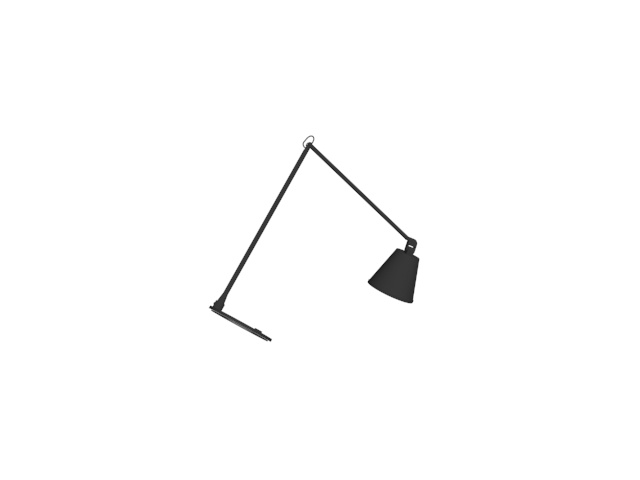desk_lamp: (209, 129, 424, 344)
